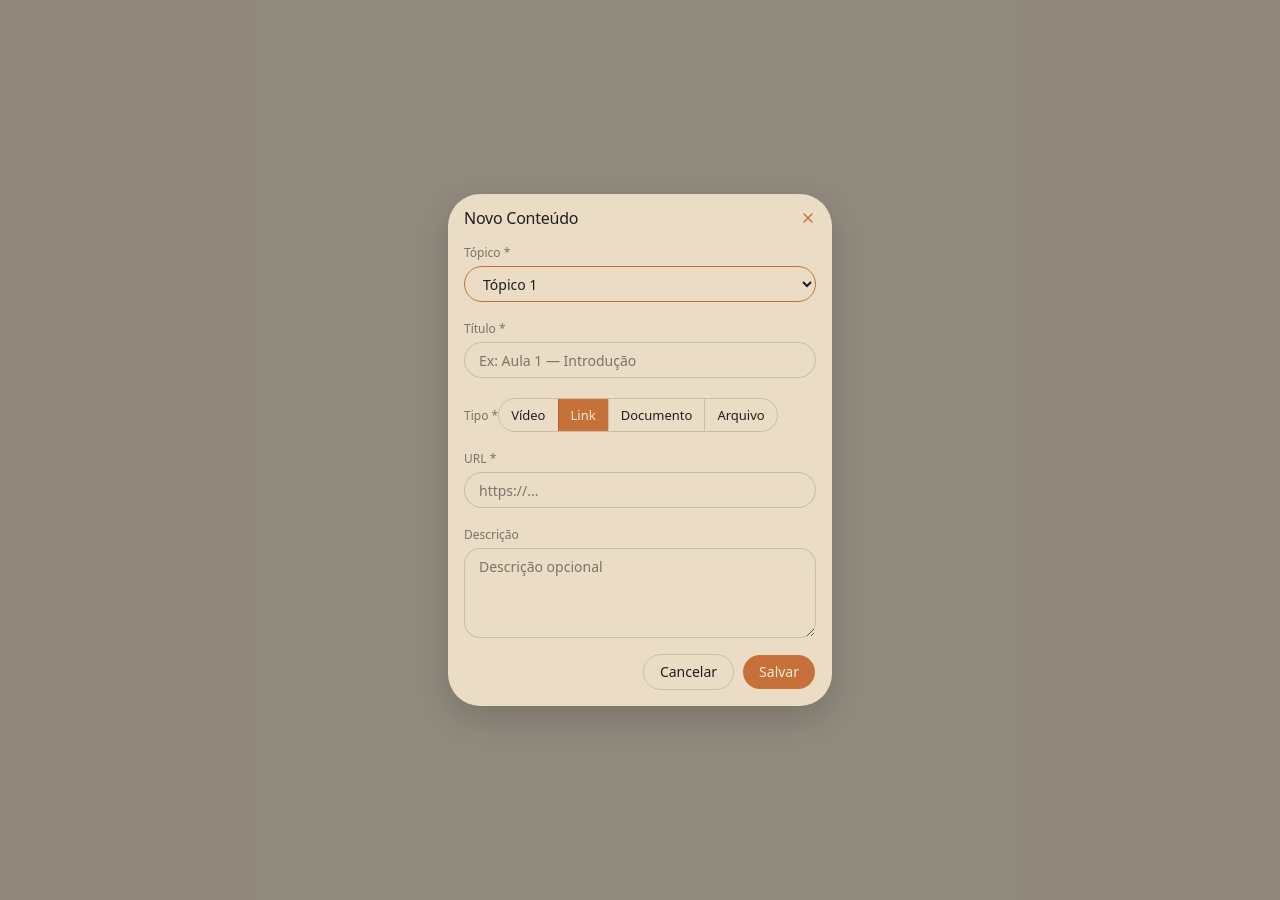
Test: ContentFormDialog › shows validation error when submitting empty title
Click the button "Salvar". click: {"x": 779, "y": 672}
box: 742,654 -> 816,690
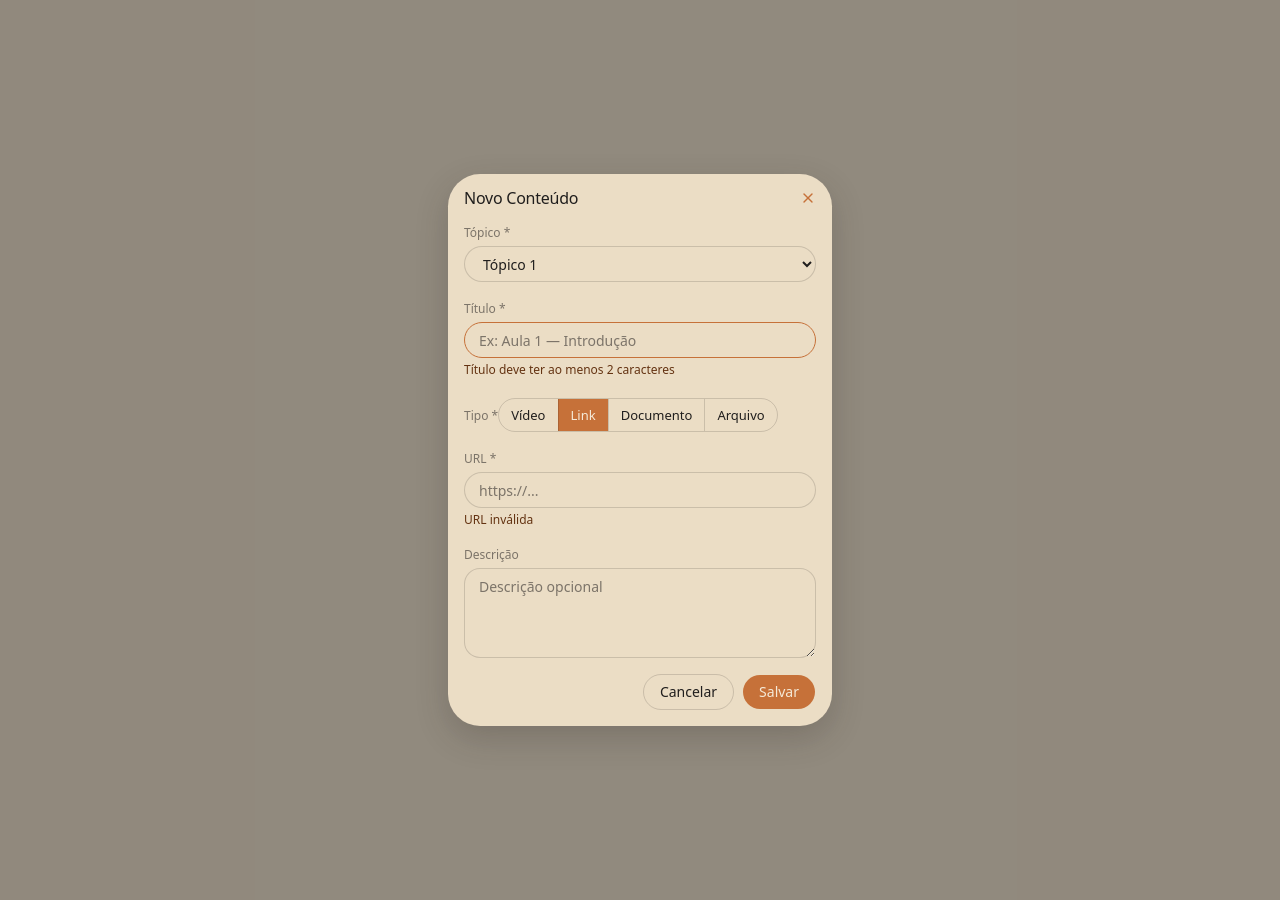
Expected: the text "Título deve ter ao menos 2 caracteres" is shown, 464,361 -> 675,378
